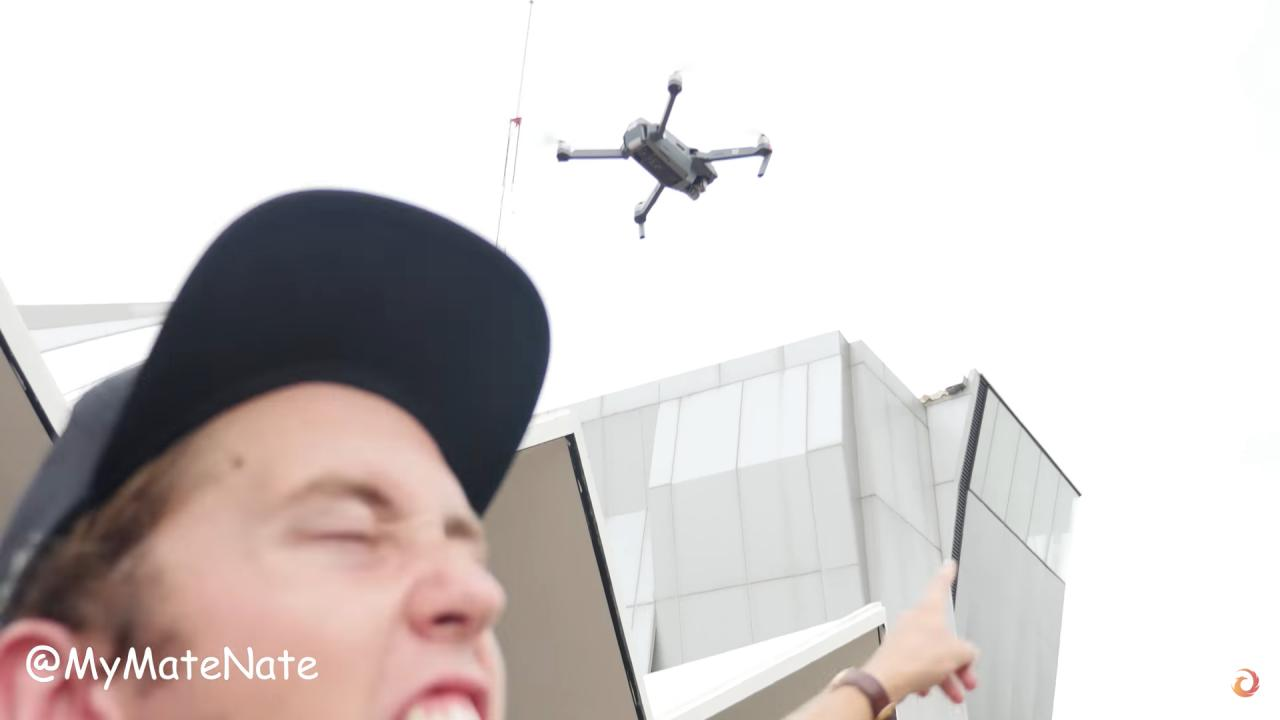Drone: (549, 61, 777, 249)
